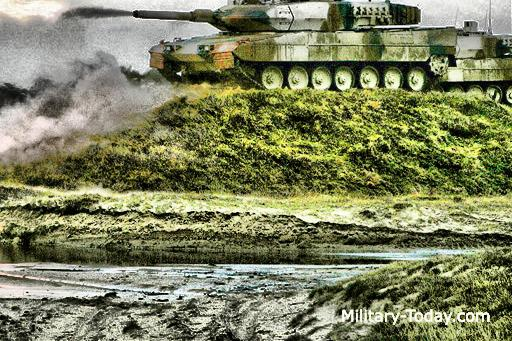tanks: (135, 1, 512, 104)
